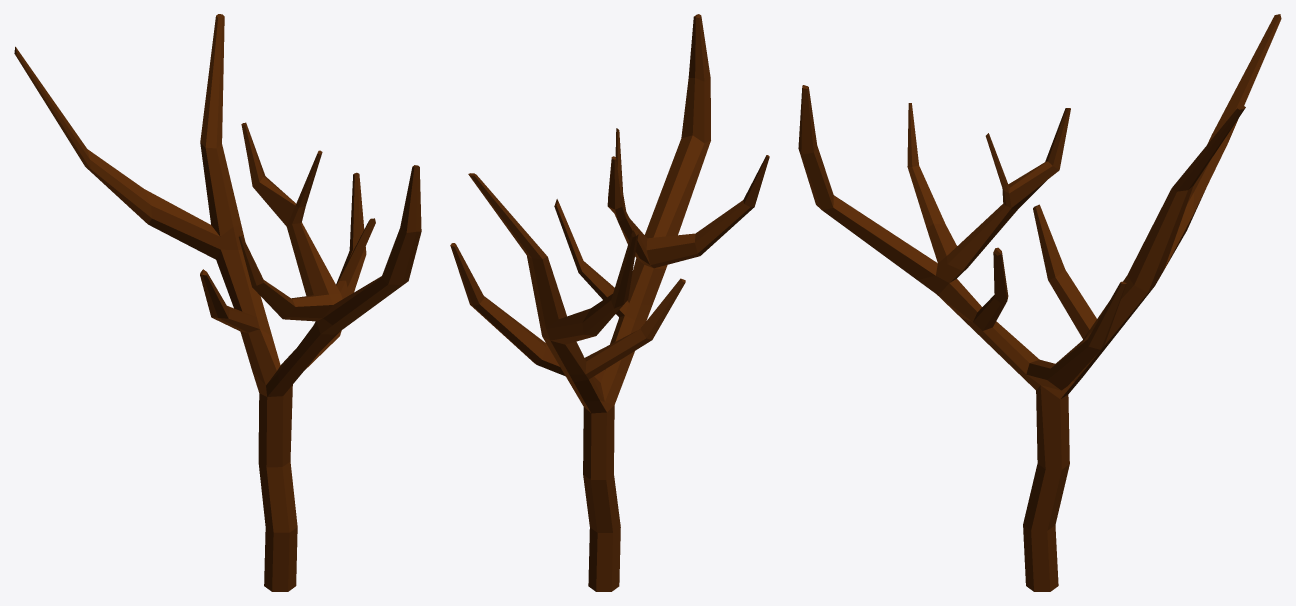
Rendered from SmallTreeBody.fbx.
The picture shows the model from 3 angles, left to right: view 1: azimuth 30°, elevation 25°; view 2: azimuth 150°, elevation 25°; view 3: azimuth 270°, elevation 25°; orthographic projection. The views are drawn at different scales.
Parts seen in each view (by area): view 1: Cylinder; view 2: Cylinder; view 3: Cylinder.
Boxes of the visible parts, x1,y1,x2,y2 form: Cylinder: (14, 14, 421, 591); Cylinder: (450, 14, 769, 591); Cylinder: (798, 14, 1281, 591).
Bounding box in the file's own units: 77.16 × 118 × 138.
